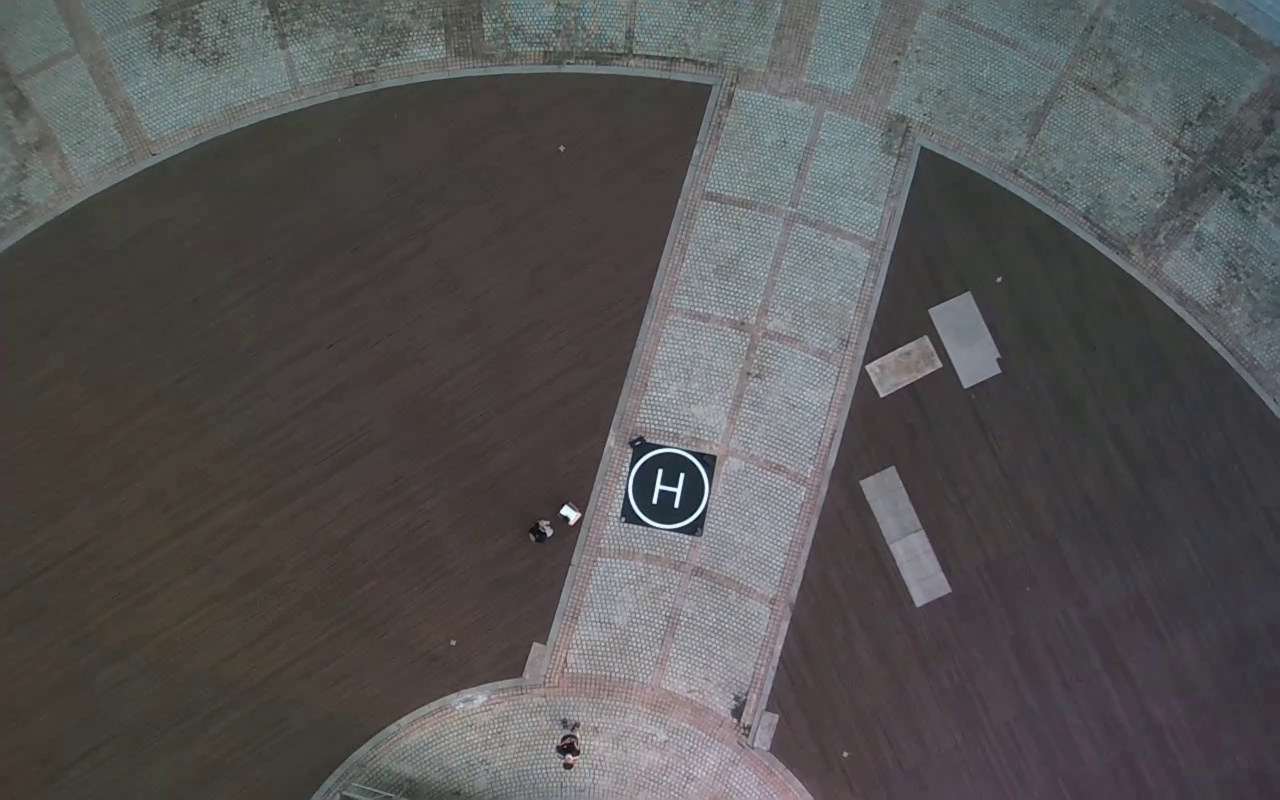H: (649, 468, 686, 508)
heliport: (627, 447, 710, 528)
